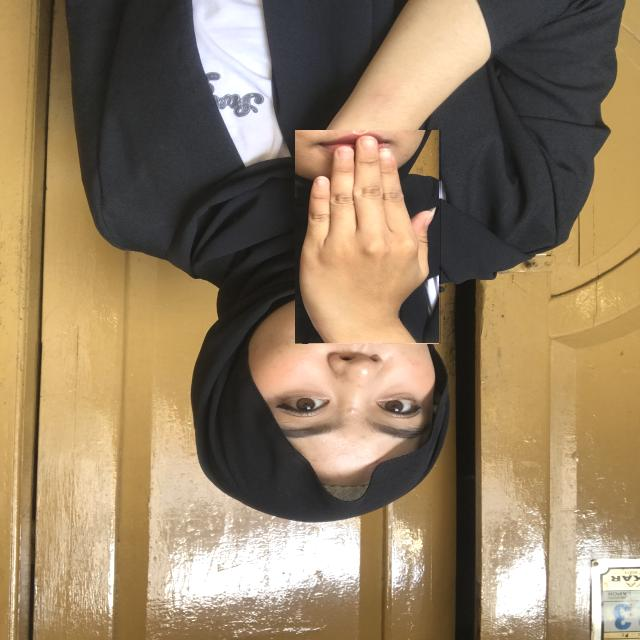ganteng: (296, 130, 442, 344)
